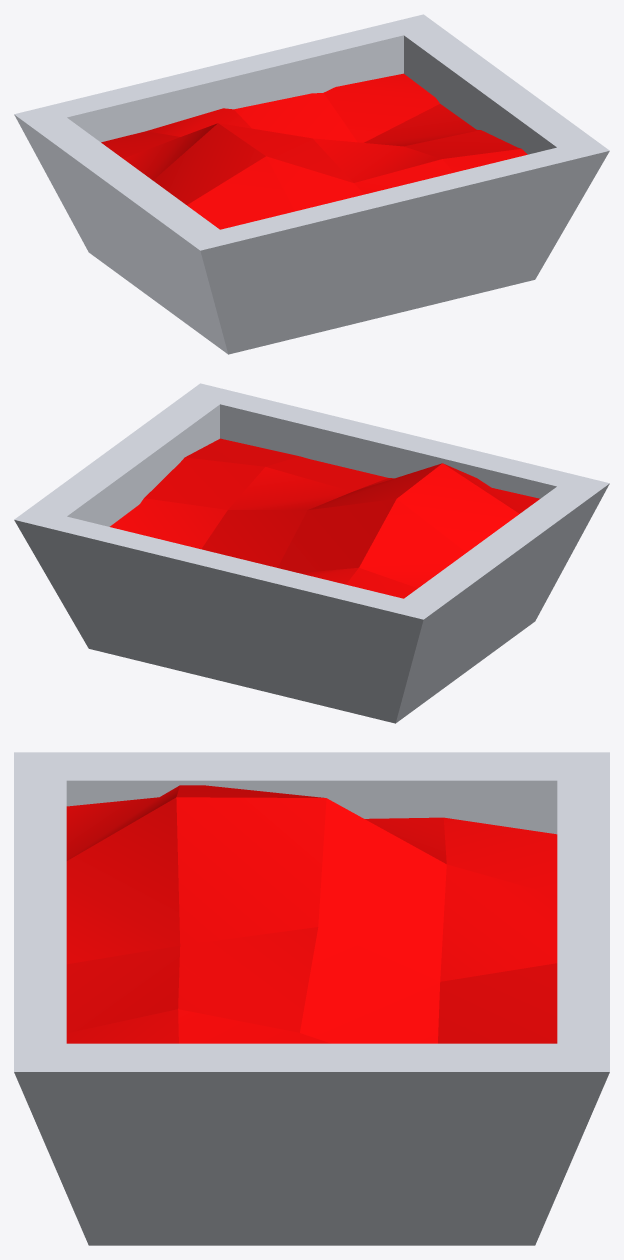
File: sauce ketchup.obj
The picture shows the model from 3 angles, top to bottom: view 1: azimuth 30°, elevation 25°; view 2: azimuth 150°, elevation 25°; view 3: azimuth 270°, elevation 25°; orthographic projection. The views are drawn at different scales.
Visible parts, largest first — view 1: Cube_Mesh; view 2: Cube_Mesh; view 3: Cube_Mesh.
Boxes of the visible parts, <box> form: Cube_Mesh: <box>14,14,609,354</box>; Cube_Mesh: <box>14,383,609,723</box>; Cube_Mesh: <box>14,752,609,1245</box>.
Bounding box in the file's own units: 0.1104 × 0.0418 × 0.087.
